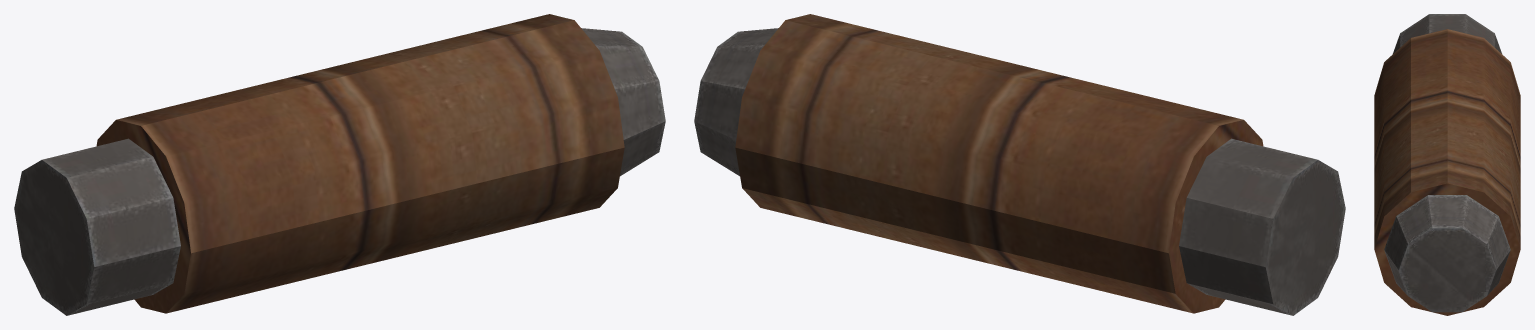
Rendered from pocket_hush.glb.
3 views of the same model, side by side, from view 1: azimuth 30°, elevation 25°; view 2: azimuth 150°, elevation 25°; view 3: azimuth 270°, elevation 25° (orthographic). The views are drawn at different scales.
Visible parts, largest first — view 1: pocket_hush; view 2: pocket_hush; view 3: pocket_hush.
Part boxes in pixels (x1,y1,x2,y2): pocket_hush: (14, 14, 665, 315); pocket_hush: (694, 14, 1345, 315); pocket_hush: (1374, 14, 1520, 315).
Size of the model in its own units: 0.1 by 0.03 by 0.03.
Materials: 1 (1 with a texture image).
